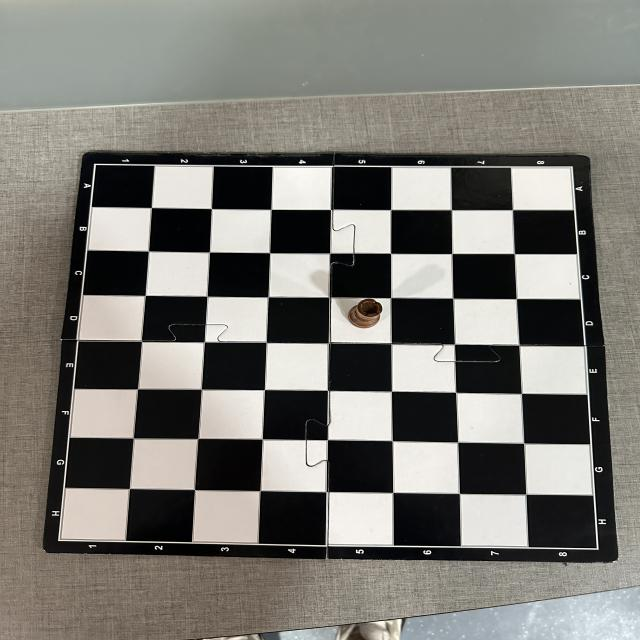Black-Rook: (349, 299, 383, 328)
